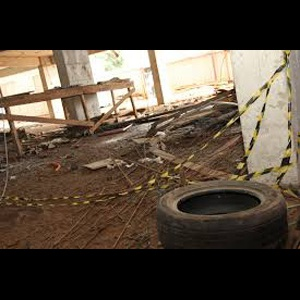tire: (156, 179, 288, 249)
